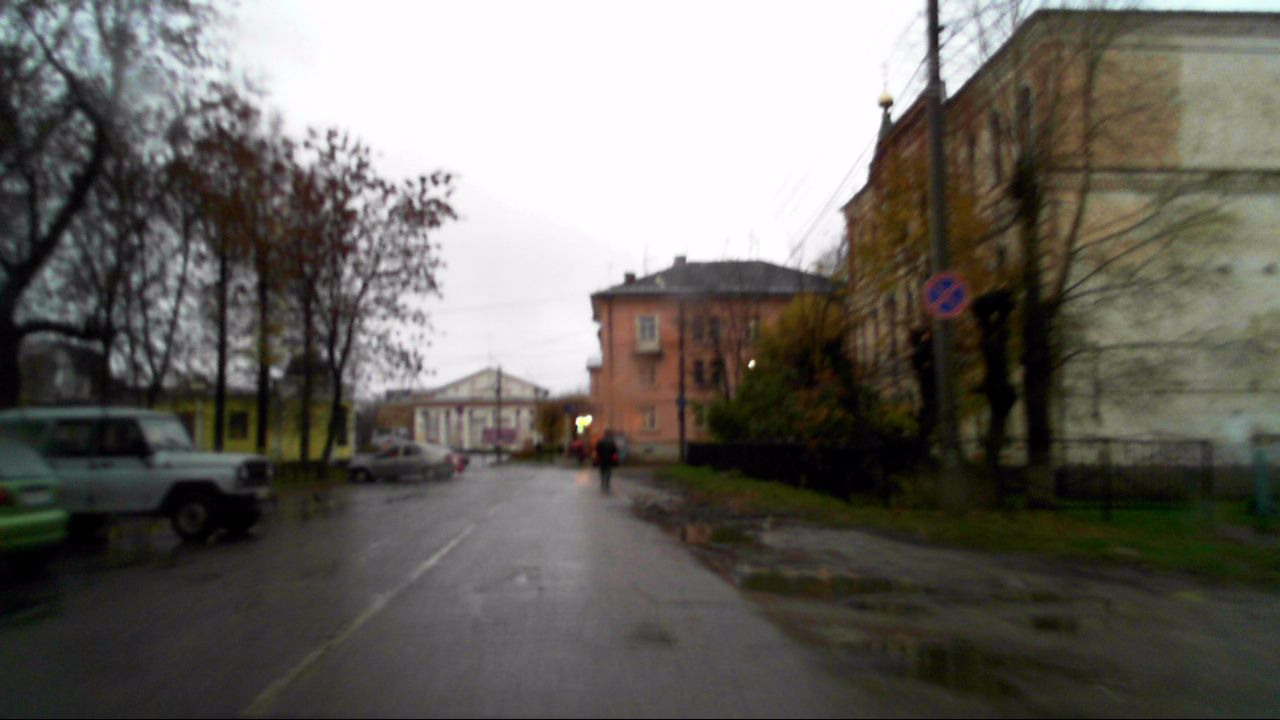No Parking: (920, 272, 971, 320)
